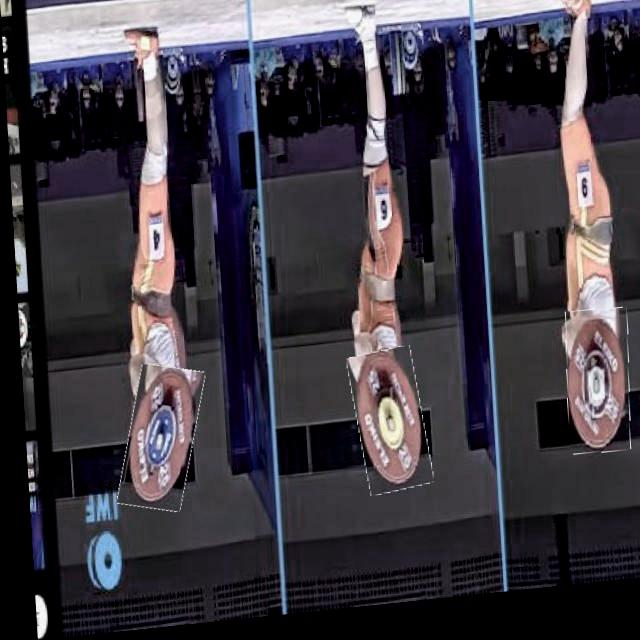barbell: (113, 365, 198, 517), (345, 354, 425, 502), (559, 320, 629, 467)
